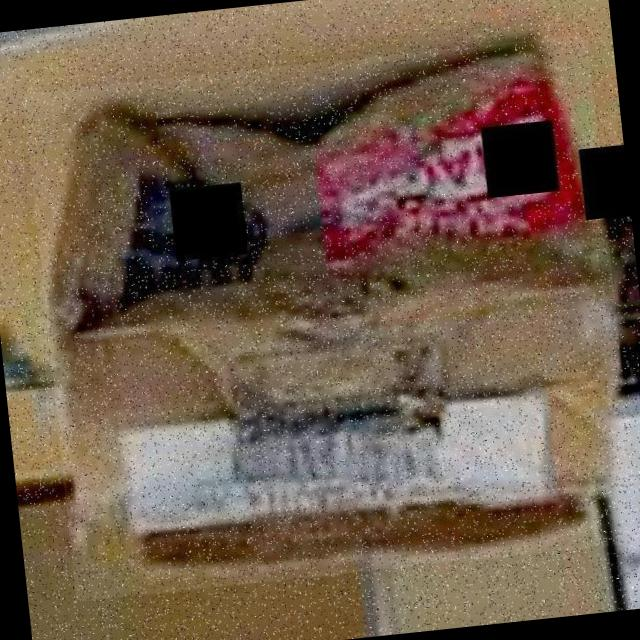box: (23, 34, 640, 601)
